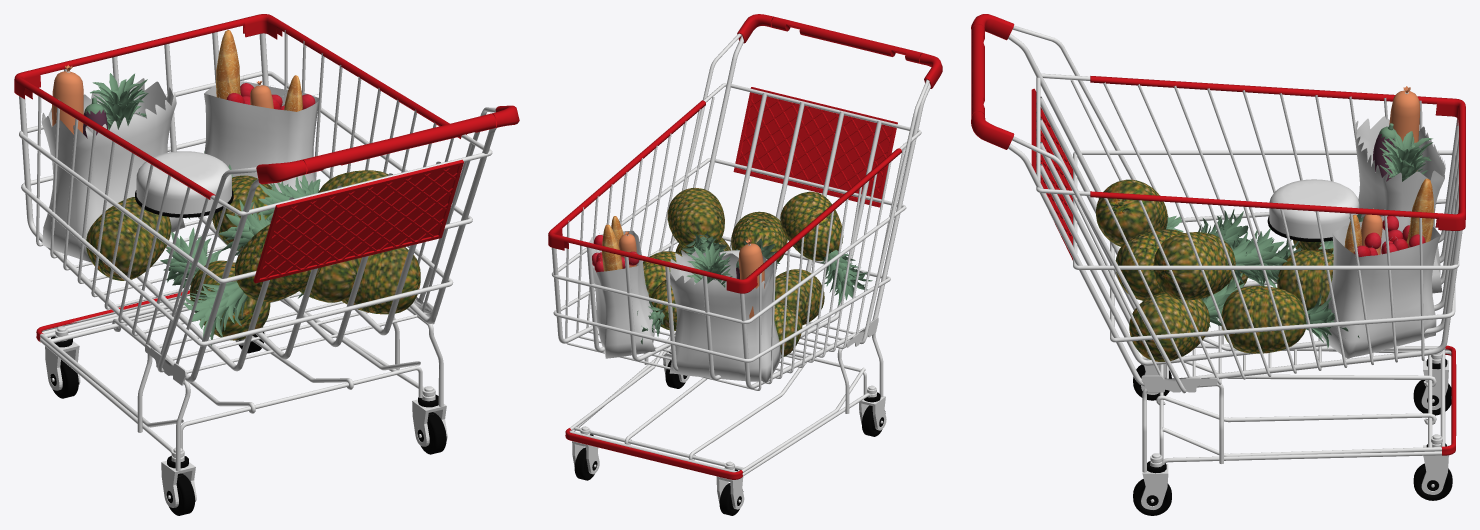
File: shoping_cart.fbx
The picture shows the model from 3 angles, left to right: view 1: azimuth 30°, elevation 25°; view 2: azimuth 150°, elevation 25°; view 3: azimuth 270°, elevation 25°; orthographic projection. The views are drawn at different scales.
Parts seen in each view (by area): view 1: SHOPPING CART, Sphere.002, Sphere.001, Sphere, Sphere.026, Sphere.024, Sphere.022, Sphere.023, Sphere.027, Sphere.003, Sphere.029, Sphere.008 (+2 smaller); view 2: SHOPPING CART, Sphere.002, Sphere.001, Sphere.026, Sphere.029, Sphere.027, Sphere.022, Sphere.003, Sphere.021, Sphere.024, Sphere.008, Sphere.025 (+1 smaller); view 3: SHOPPING CART, Sphere.001, Sphere.029, Sphere.025, Sphere.002, Sphere.023, Sphere, Sphere.026, Sphere.027, Sphere.021, Sphere.003, Sphere.008 (+2 smaller).
Boxes of the visible parts, x1,y1,x2,y2 form: SHOPPING CART: (14,14,519,515); Sphere.002: (41,78,184,262); Sphere.001: (204,81,319,192); Sphere: (135,151,233,217); Sphere.026: (182,224,321,345); Sphere.024: (86,197,190,280); Sphere.022: (160,227,270,340); Sphere.023: (298,247,420,314); Sphere.027: (218,199,365,302); Sphere.003: (90,73,148,130); Sphere.029: (258,170,387,222); Sphere.008: (51,65,83,134); SHOPPING CART: (548,14,942,515); Sphere.002: (669,250,781,382); Sphere.001: (589,230,655,358); Sphere.026: (780,191,872,305); Sphere.029: (667,187,726,256); Sphere.027: (731,211,787,268); Sphere.022: (775,269,824,325); Sphere.003: (686,243,732,287); Sphere.021: (637,280,676,344); Sphere.024: (774,300,802,357); Sphere.008: (738,239,764,318); Sphere.025: (643,251,682,297); SHOPPING CART: (971,14,1465,515); Sphere.001: (1321,215,1440,358); Sphere.029: (1153,228,1287,300); Sphere.025: (1221,286,1359,353); Sphere.002: (1355,116,1445,293); Sphere.023: (1129,273,1244,361); Sphere: (1267,179,1359,242); Sphere.026: (1096,179,1183,246); Sphere.027: (1115,209,1250,300); Sphere.021: (1277,250,1333,310); Sphere.003: (1380,131,1432,181); Sphere.008: (1389,86,1420,171).
Size of the model in its own units: 209 by 301 by 347.
